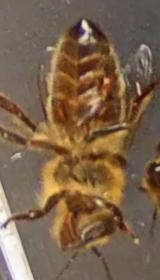varroa_mite: (90, 66, 126, 100), (48, 91, 70, 125)
